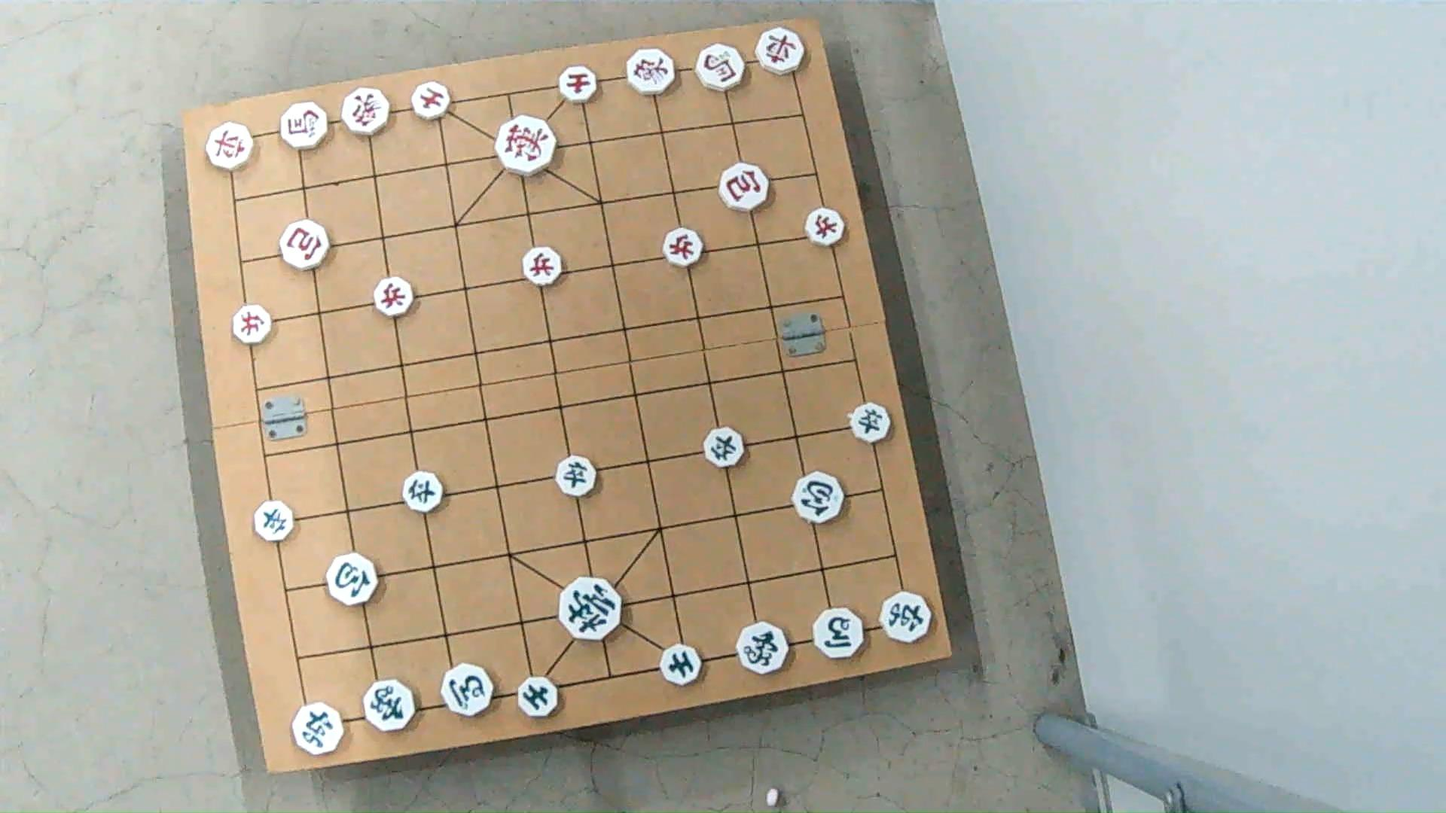cha_green: (291, 704, 345, 754), (882, 589, 931, 642)
cha_red: (204, 123, 253, 168), (755, 29, 805, 73)
jol_green: (401, 472, 445, 513), (253, 498, 294, 541), (848, 405, 894, 443), (704, 428, 748, 467), (555, 458, 596, 497)
jol_red: (374, 278, 414, 317), (522, 246, 564, 283), (231, 305, 271, 343), (660, 229, 701, 266), (805, 209, 846, 245)
ma_green: (442, 664, 493, 717), (814, 609, 865, 658)
ma_red: (694, 45, 745, 90), (279, 105, 327, 146)
po_green: (794, 473, 848, 522), (325, 555, 377, 605)
po_red: (719, 163, 770, 210), (282, 221, 334, 267)
sa_green: (518, 678, 559, 718), (662, 645, 703, 684)
sa_red: (557, 65, 599, 103), (411, 83, 453, 119)
sang_green: (365, 678, 416, 733), (737, 623, 789, 673)
sang_red: (343, 87, 392, 138), (627, 47, 674, 96)
wang_green: (558, 578, 621, 638)
wang_red: (493, 117, 556, 173)
